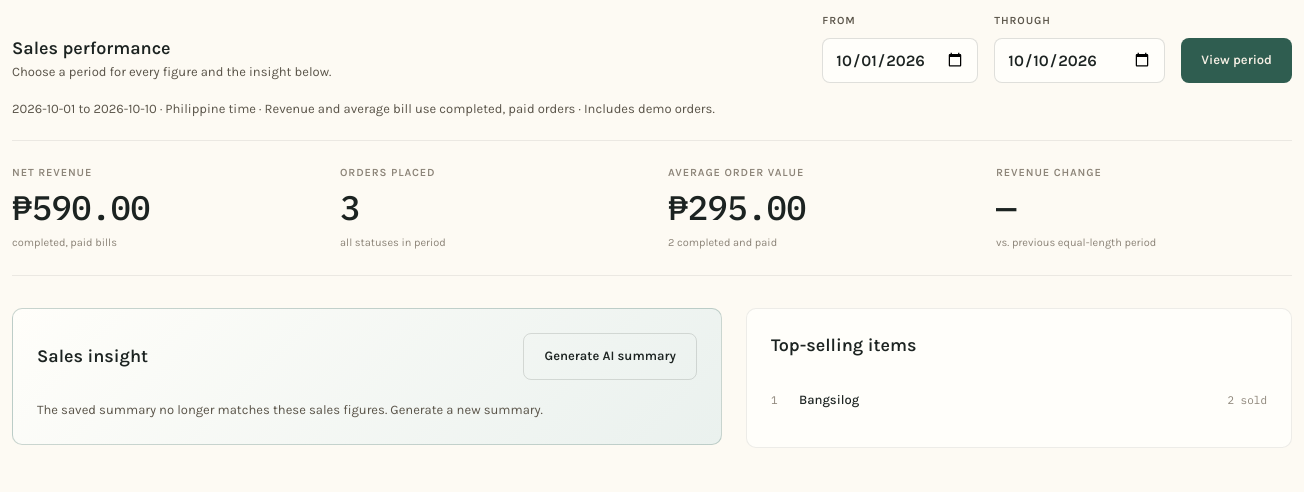
Test: AI insight is generated on demand and stale summaries are hidden
Expected: the text "saved summary no longer matches" is shown, 37,402 -> 543,417
Click the button "Generate AI summary" at (610, 356), box 524,333 -> 697,380
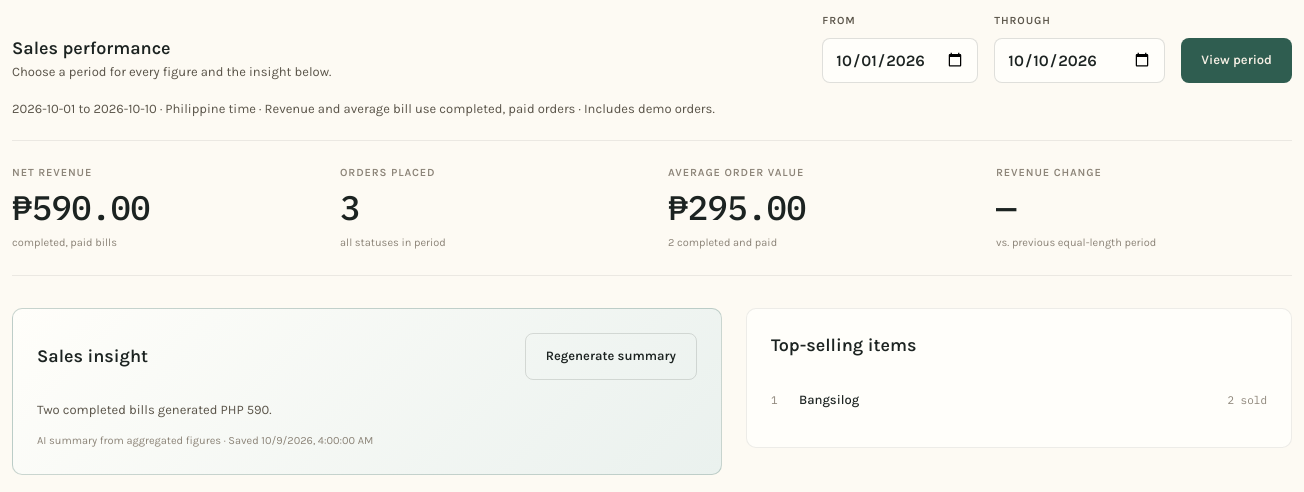
Expected: the text "Two completed bills generated PHP 590." is shown, 37,402 -> 272,417
